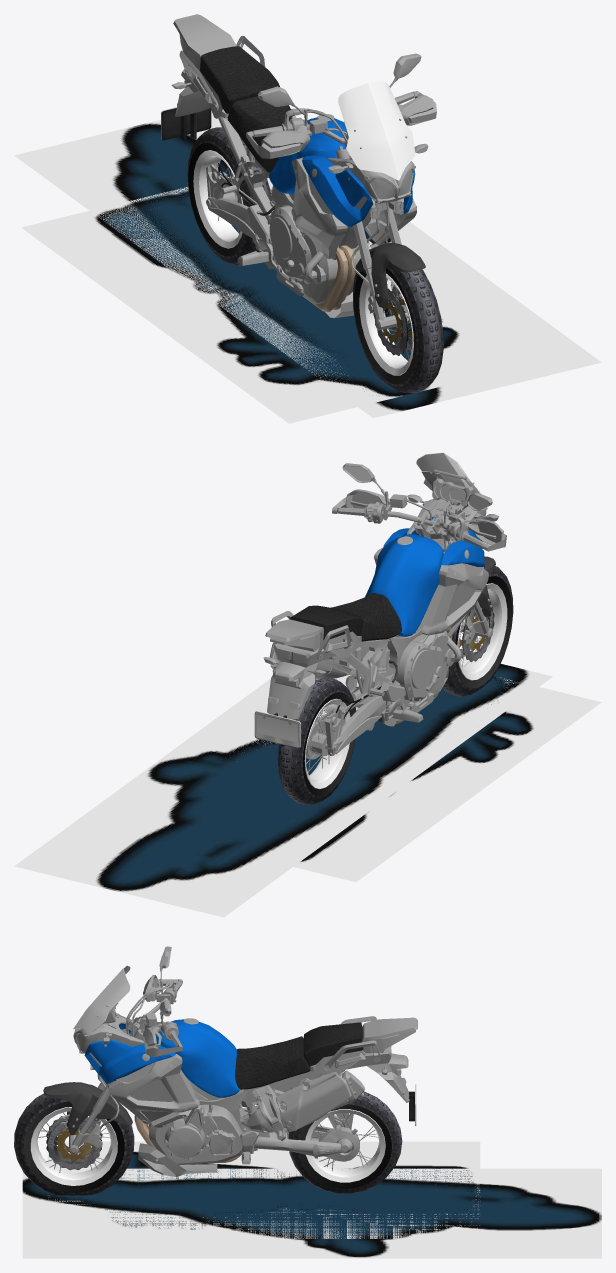
Rendered from bike7_36.fbx.
The picture shows the model from 3 angles, top to bottom: view 1: azimuth 30°, elevation 25°; view 2: azimuth 150°, elevation 25°; view 3: azimuth 270°, elevation 25°; orthographic projection. The views are drawn at different scales.
Visible parts, largest first — view 1: Shadow_DayLight, Shadow_SunSet, Chrome, SteeringGold, Matt, Glass, Tyre_F, Body, Rim_F, Tyre_B, Rim_B, SteeringBody (+2 smaller); view 2: Shadow_SunSet, Chrome, Shadow_DayLight, Body, SteeringGold, Tyre_B, Matt, Rim_F, Tyre_F, Rim_B, Plate, Glass; view 3: Shadow_SunSet, Chrome, Shadow_DayLight, Body, Matt, SteeringGold, Tyre_F, Rim_F, Tyre_B, SteeringBody, Rim_B, Glass.
Part boxes in pixels (bbox=[...]): Shadow_DayLight: bbox=[21, 176, 535, 423]; Shadow_SunSet: bbox=[14, 110, 601, 418]; Chrome: bbox=[171, 14, 428, 318]; SteeringGold: bbox=[246, 53, 436, 330]; Matt: bbox=[200, 46, 294, 215]; Glass: bbox=[338, 81, 415, 180]; Tyre_F: bbox=[352, 268, 443, 393]; Body: bbox=[269, 117, 415, 226]; Rim_F: bbox=[359, 273, 413, 375]; Tyre_B: bbox=[187, 127, 270, 265]; Rim_B: bbox=[193, 150, 243, 248]; SteeringBody: bbox=[354, 242, 425, 308]; Shadow_SunSet: bbox=[14, 656, 552, 917]; Chrome: bbox=[263, 469, 498, 759]; Shadow_DayLight: bbox=[233, 675, 601, 882]; Body: bbox=[365, 517, 485, 636]; SteeringGold: bbox=[332, 463, 506, 643]; Tyre_B: bbox=[278, 678, 356, 804]; Matt: bbox=[290, 593, 401, 719]; Rim_F: bbox=[457, 583, 507, 680]; Tyre_F: bbox=[442, 566, 513, 696]; Rim_B: bbox=[304, 698, 350, 789]; Plate: bbox=[254, 711, 300, 748]; Glass: bbox=[416, 452, 481, 493]; Shadow_SunSet: bbox=[22, 1168, 601, 1258]; Chrome: bbox=[73, 1003, 417, 1179]; Shadow_DayLight: bbox=[47, 1141, 480, 1238]; Body: bbox=[84, 1019, 239, 1097]; Matt: bbox=[235, 1022, 363, 1116]; SteeringGold: bbox=[69, 946, 182, 1153]; Tyre_F: bbox=[14, 1093, 134, 1195]; Rim_F: bbox=[30, 1107, 117, 1185]; Tyre_B: bbox=[288, 1091, 402, 1193]; SteeringBody: bbox=[43, 1082, 132, 1134]; Rim_B: bbox=[305, 1109, 385, 1182]; Glass: bbox=[73, 965, 130, 1032].
Bounding box in the file's own units: 151 × 137 × 320.
